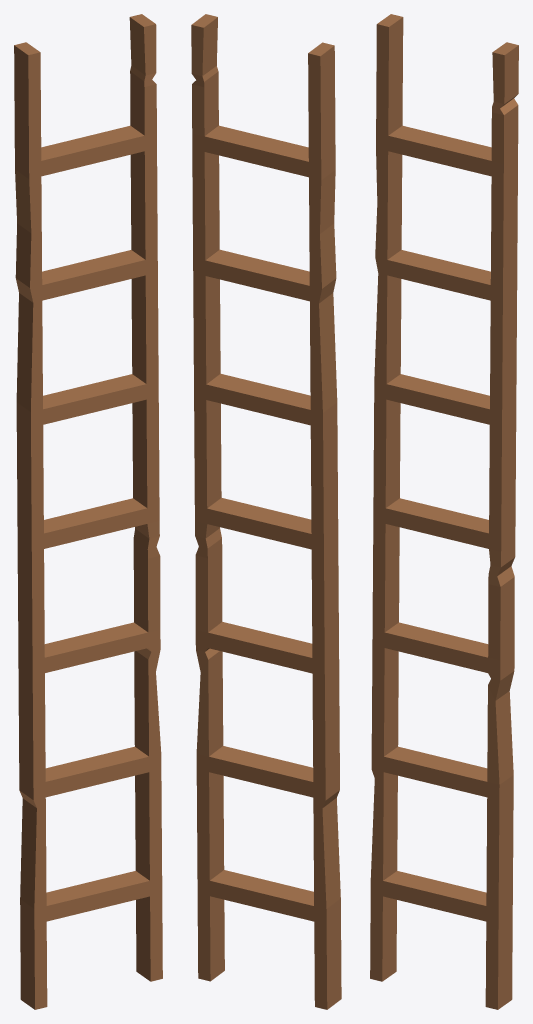
The picture shows the model from 3 angles, left to right: view 1: azimuth 30°, elevation 25°; view 2: azimuth 150°, elevation 25°; view 3: azimuth 330°, elevation 25°; orthographic projection.
Visible parts, largest first — view 1: Ladder_medium; view 2: Ladder_medium; view 3: Ladder_medium.
Boxes of the visible parts, x1=… form: Ladder_medium: x1=14, y1=14, x2=162, y2=1009; Ladder_medium: x1=191, y1=14, x2=341, y2=1009; Ladder_medium: x1=370, y1=14, x2=518, y2=1009.
Bounding box in the file's own units: 0.6331 × 4.5 × 0.1798.
